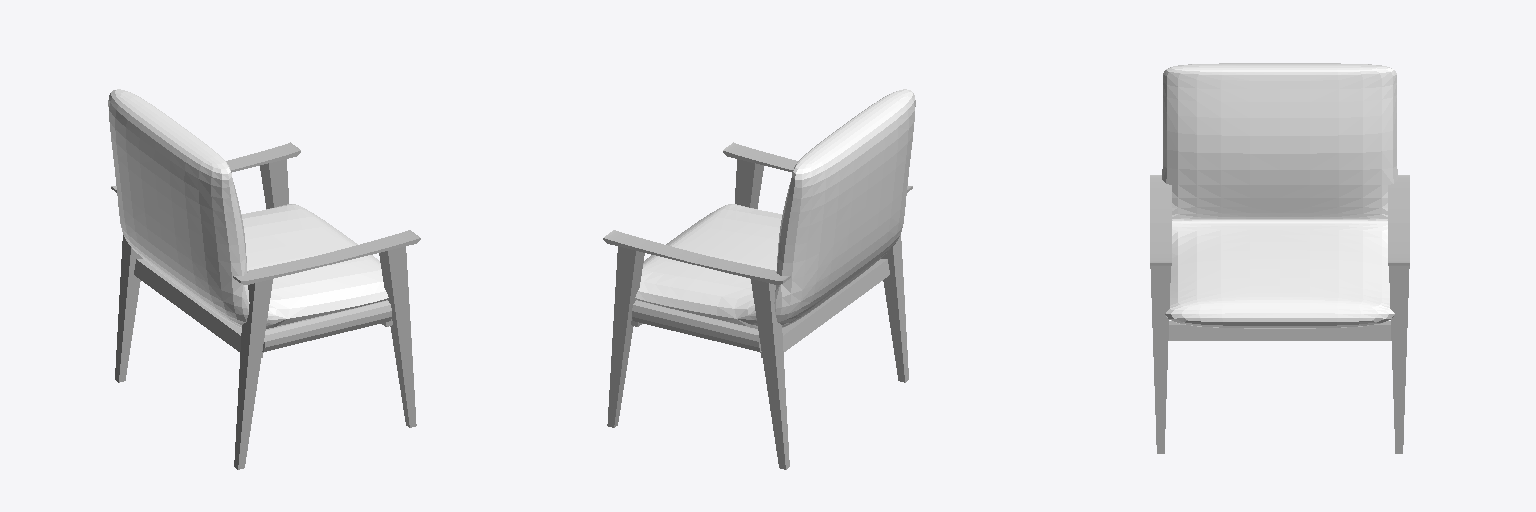
The model's file is ArmChair.obj.
3 renders of one model, left to right at view 1: azimuth 30°, elevation 25°; view 2: azimuth 150°, elevation 25°; view 3: azimuth 270°, elevation 25°, orthographic.
Parts seen in each view (by area): view 1: ArmChair; view 2: ArmChair; view 3: ArmChair.
Part boxes in pixels (left/top/right/bottom): ArmChair: left=108, top=89, right=420, bottom=469; ArmChair: left=603, top=89, right=915, bottom=469; ArmChair: left=1150, top=63, right=1409, bottom=453.
Bounding box in the file's own units: 1.44 × 2.02 × 1.6.